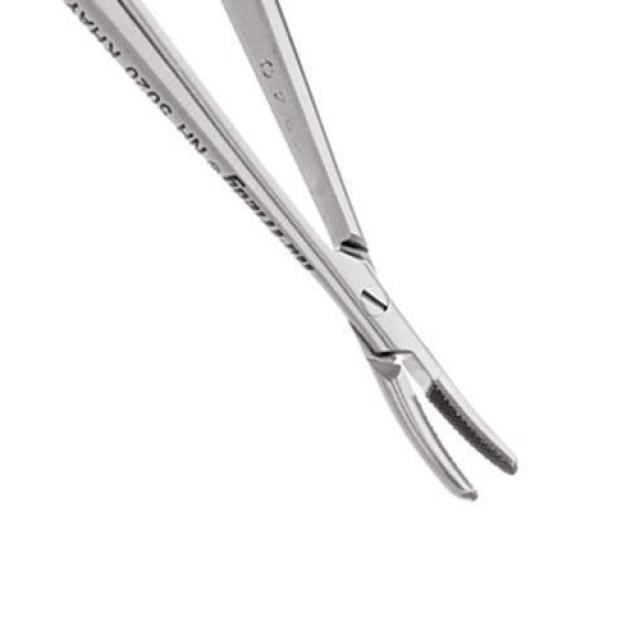Castroviejo: (60, 0, 521, 505)
